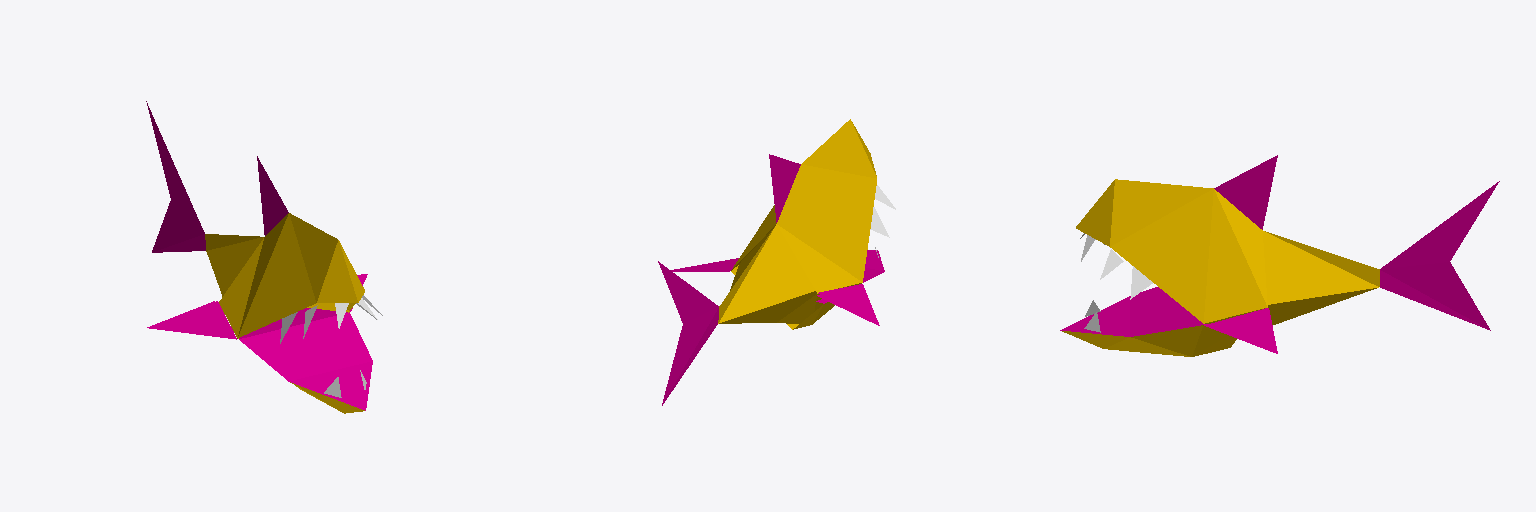
3 views of the same model, side by side, from view 1: azimuth 30°, elevation 25°; view 2: azimuth 150°, elevation 25°; view 3: azimuth 270°, elevation 25° (orthographic).
Parts seen in each view (by area): view 1: JUN_PIRANHA; view 2: JUN_PIRANHA; view 3: JUN_PIRANHA.
Boxes of the visible parts, <box> form: JUN_PIRANHA: <box>146,101,382,413</box>; JUN_PIRANHA: <box>658,119,895,405</box>; JUN_PIRANHA: <box>1060,155,1499,356</box>.
Bounding box in the file's own units: 12.5 × 10.88 × 21.44.
Materials: 1 (1 with a texture image).